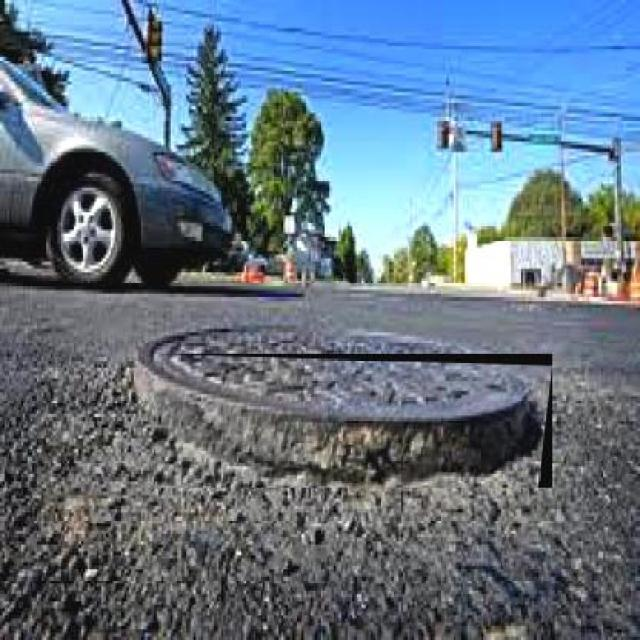Manhole: (145, 328, 544, 475)
